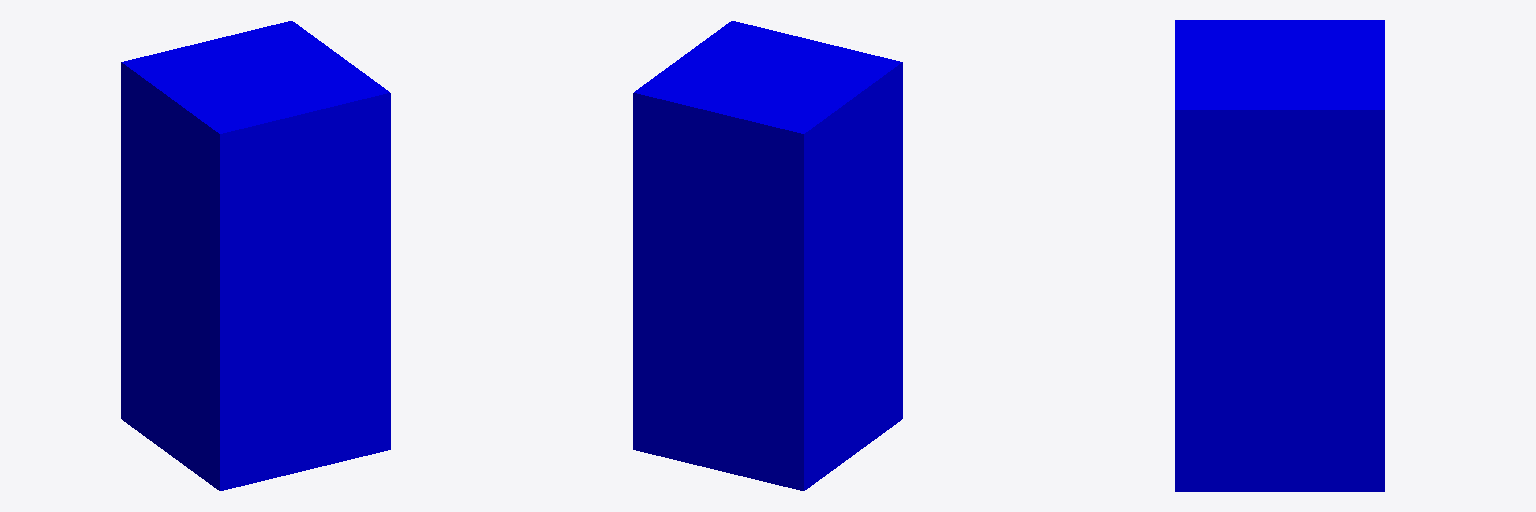
robot.urdf — box.urdf:
<?xml version="1.0"?>
<robot name="box.urdf">
  <link name="baseLink">
    <inertial>
      <origin rpy="0 0 0" xyz="0 0 0"/>
      <mass value="0.1"/>
      <inertia ixx="1" ixy="0" ixz="0" iyy="1" iyz="0" izz="1"/>
    </inertial>
    <visual>
      <origin rpy="0 0 0" xyz="0 0 0"/>
      <geometry>
        <box size="0.054 0.054 0.108"/>
      </geometry>
      <material name="blue">
        <color rgba="0 0 1 1"/>
      </material>
    </visual>
    <collision>
      <origin rpy="0 0 0" xyz="0 0 0"/>
      <geometry>
        <box size="0.054 0.054 0.108"/>
      </geometry>
    </collision>
    <contact>
      <friction_anchor/>
      <lateral_friction value="1.0"/>
      <rolling_friction value="0.0"/>
    </contact>
  </link>
</robot>

--- What the picture shows (computed from the rendered views, not written in the file) ---
The picture shows the robot from 3 angles, left to right: view 1: azimuth 30°, elevation 25°; view 2: azimuth 150°, elevation 25°; view 3: azimuth 270°, elevation 25°; orthographic projection.
Model box.urdf with 1 links and 0 joints (none), rooted at baseLink, posed all joints at 0.
Links seen in each view (by area): view 1: baseLink; view 2: baseLink; view 3: baseLink.
Link boxes in pixels (x1=…): baseLink: x1=121, y1=21, x2=390, y2=490; baseLink: x1=633, y1=21, x2=902, y2=490; baseLink: x1=1175, y1=20, x2=1384, y2=491.
Bounding box of the posed robot: 0.054 × 0.054 × 0.108 m (x, y, z).
Geometry: primitives only (box / cylinder / sphere), no mesh files.